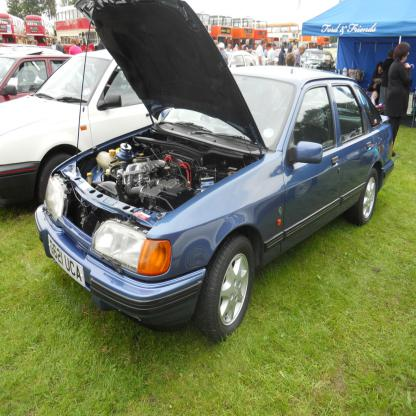Car: (0, 0, 395, 343)
